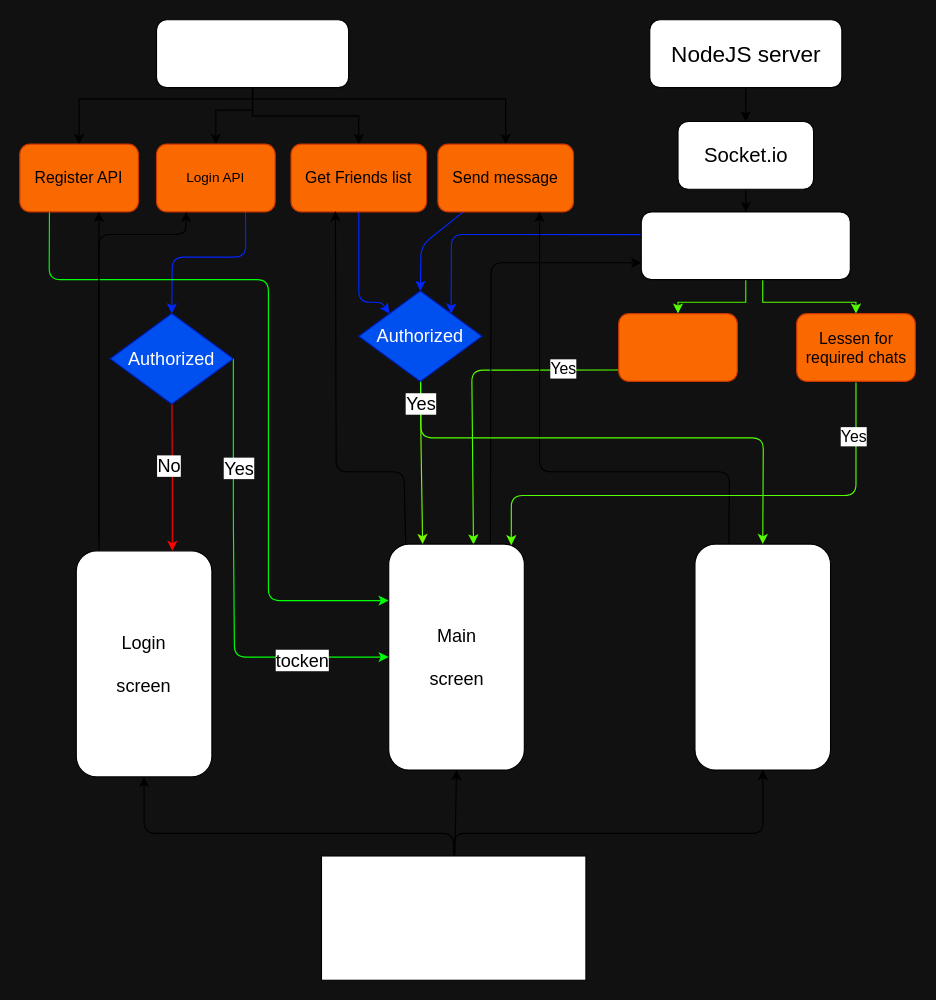
This 936x1000 diagram has some shape labels left out. Here are the shapes that lost their labels. From the top down, the box of each, then its label:
(155, 19, 349, 88): Django server
(640, 211, 850, 280): On Connect
(618, 312, 737, 381): Get all chats messages
(694, 543, 831, 770): Chat screen
(320, 855, 586, 980): Web app && Mobile app screens
